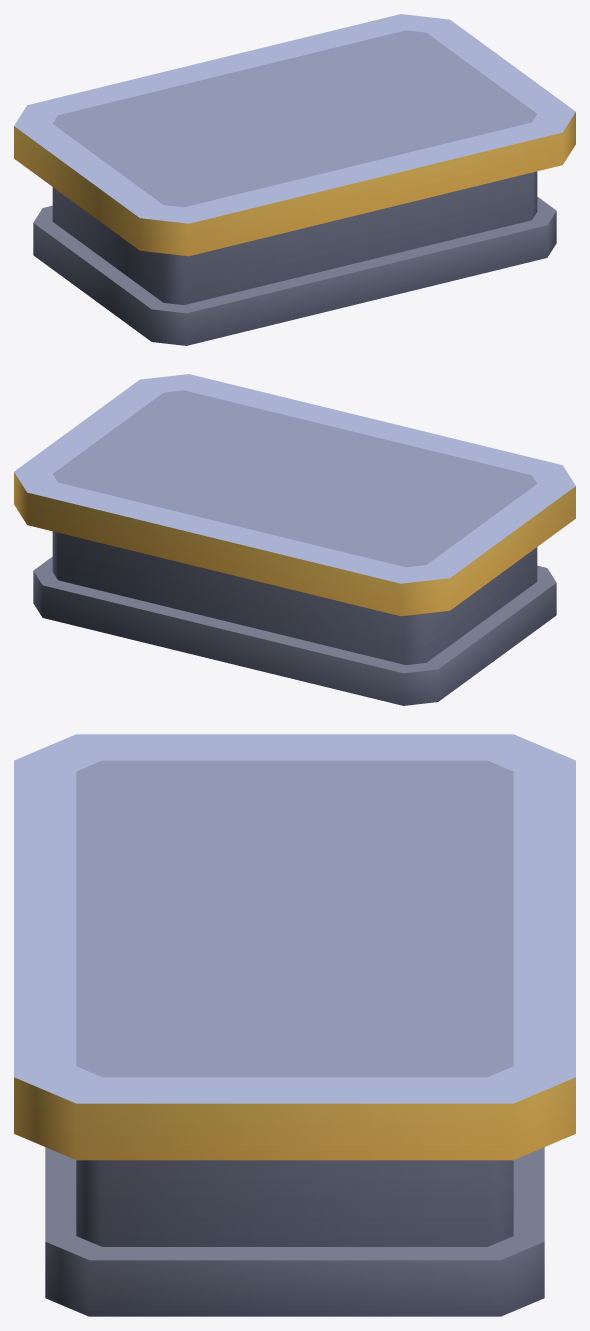
The model's file is table-large.obj.
3 views of the same model, one above another, from view 1: azimuth 30°, elevation 25°; view 2: azimuth 150°, elevation 25°; view 3: azimuth 270°, elevation 25° (orthographic). The views are drawn at different scales.
Visible parts, largest first — view 1: table-large; view 2: table-large; view 3: table-large.
Part boxes in pixels (x1,y1,x2,y2): table-large: (14, 14, 575, 345); table-large: (14, 374, 575, 705); table-large: (14, 734, 575, 1316).
Size of the model in its own units: 1.4 by 0.4 by 0.9.
Materials: 1 (1 with a texture image).
